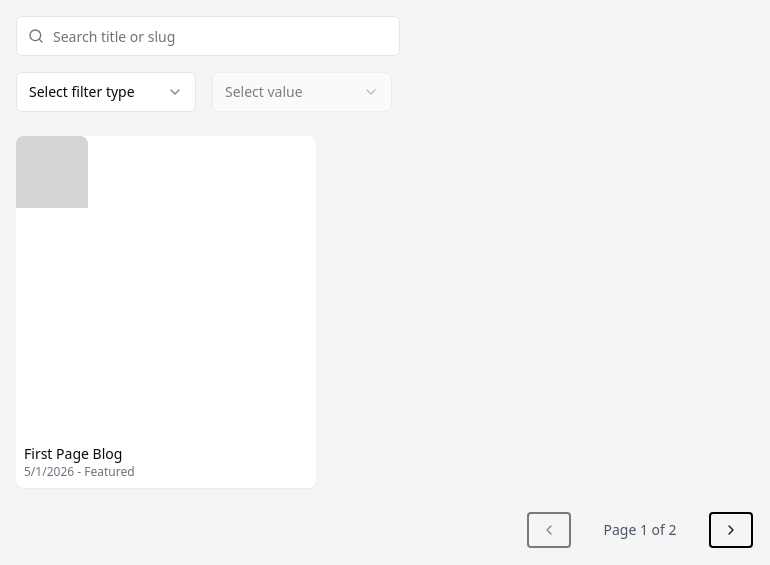
Test: ReadBlogList pagination › sends search to the route and resets to the first page
Expected: the heading "First Page Blog" is shown, [24,444,122,463]
Click the button named "Next blog page". click: [730, 530]
box: [708,512,752,548]
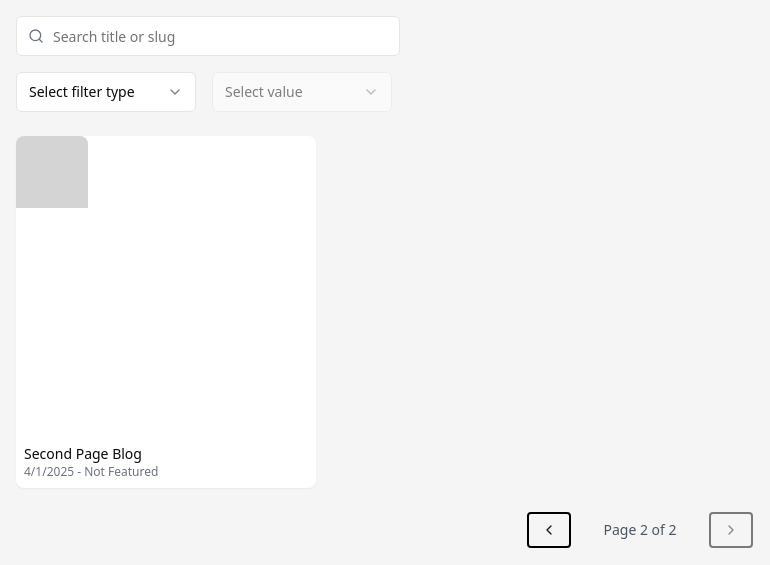
Result: the heading "Second Page Blog" is shown at [24,444,142,463]
Type "studio" into the search field named "Search blog title or slug". click: [208, 36]
box: [16,16,400,56]
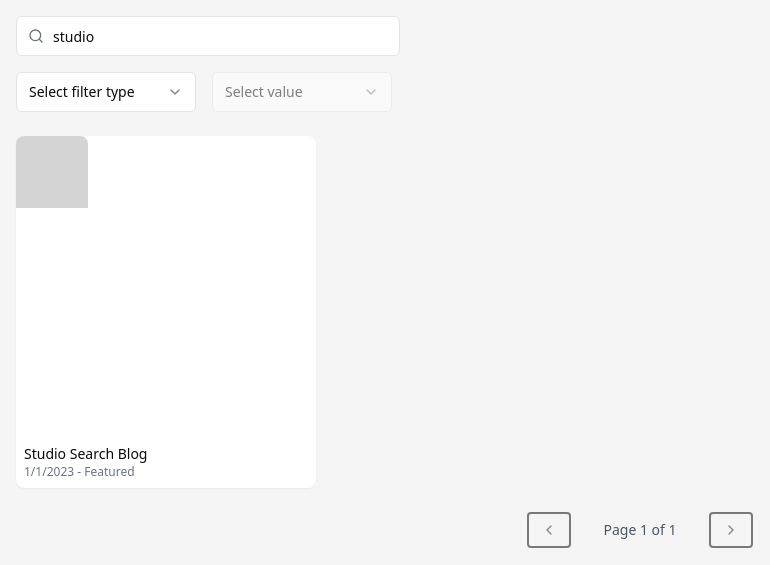
Result: the heading "Studio Search Blog" is shown at [24,444,148,463]
Result: the text "Page 1 of 1" is shown at [604,520,677,540]
Result: the heading "Second Page Blog" is gone
